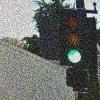traffic lights: (60, 10, 88, 66)
